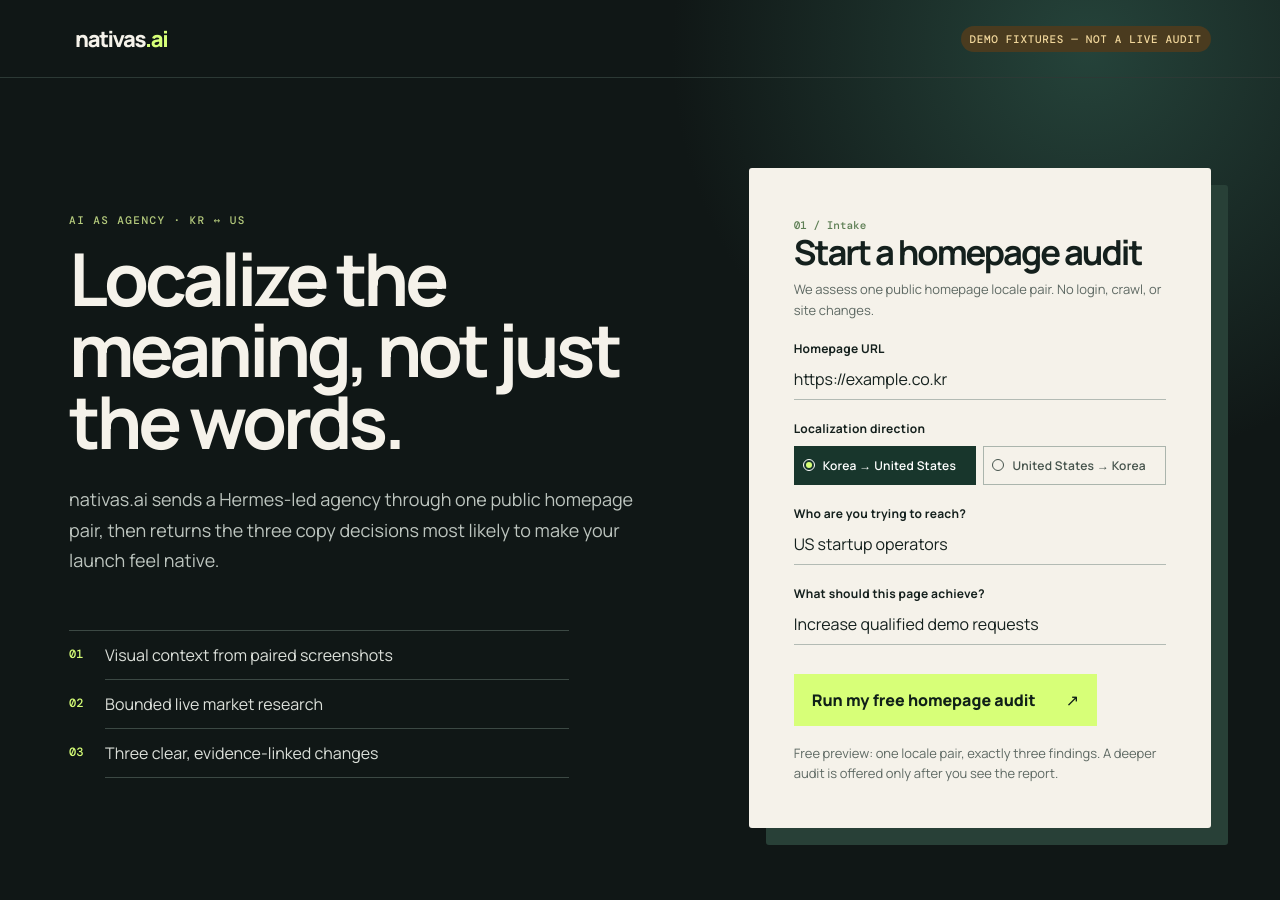
failures and degradation › shows the typed capture failure without inventing a report
Replace the text in the field labelled "Homepage URL" with "https://capture-fail.example.co.kr": coordinates (980, 378) [794,357,1166,400]
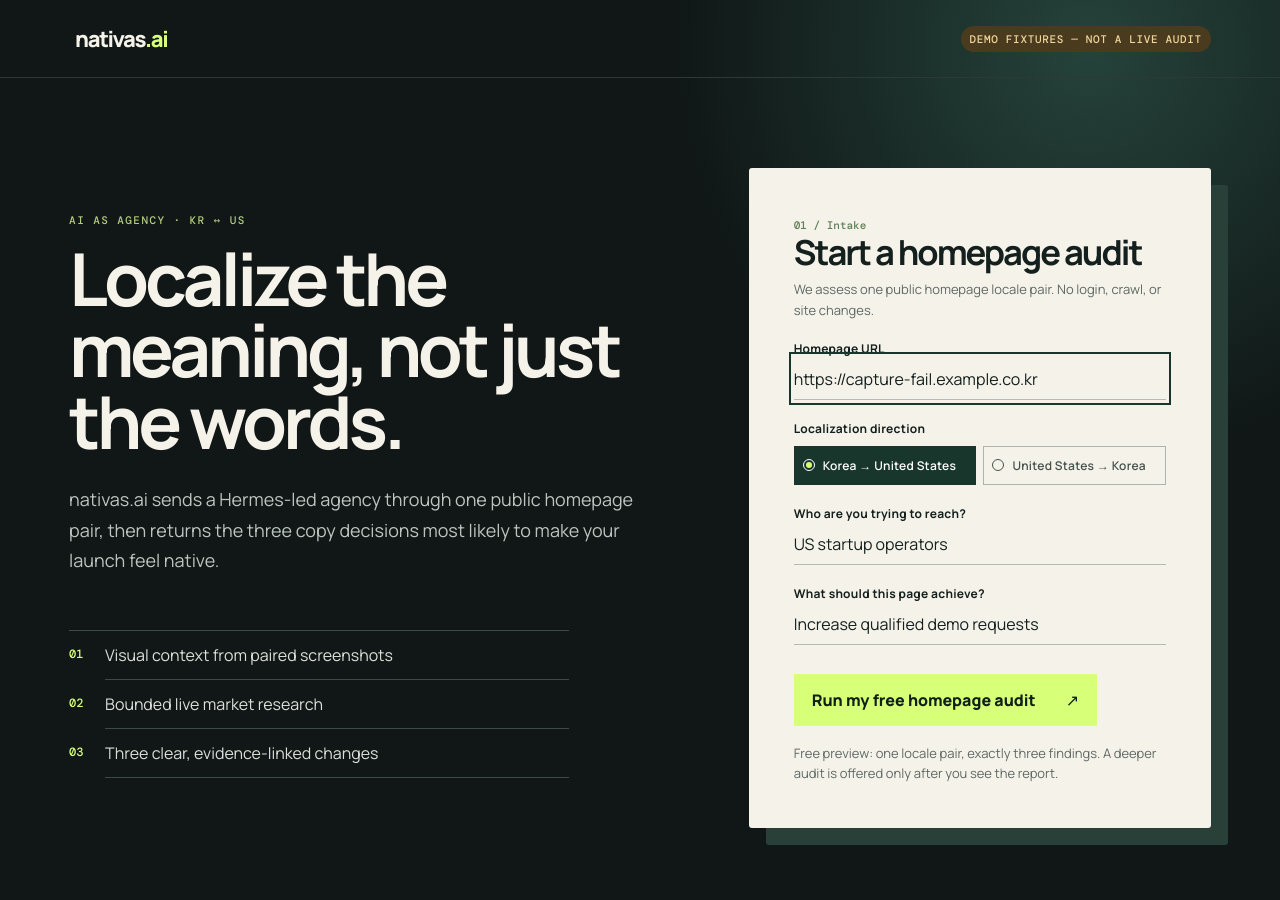
Click the button "Run my free homepage audit ↗": coordinates (945, 700) [794,674,1097,726]
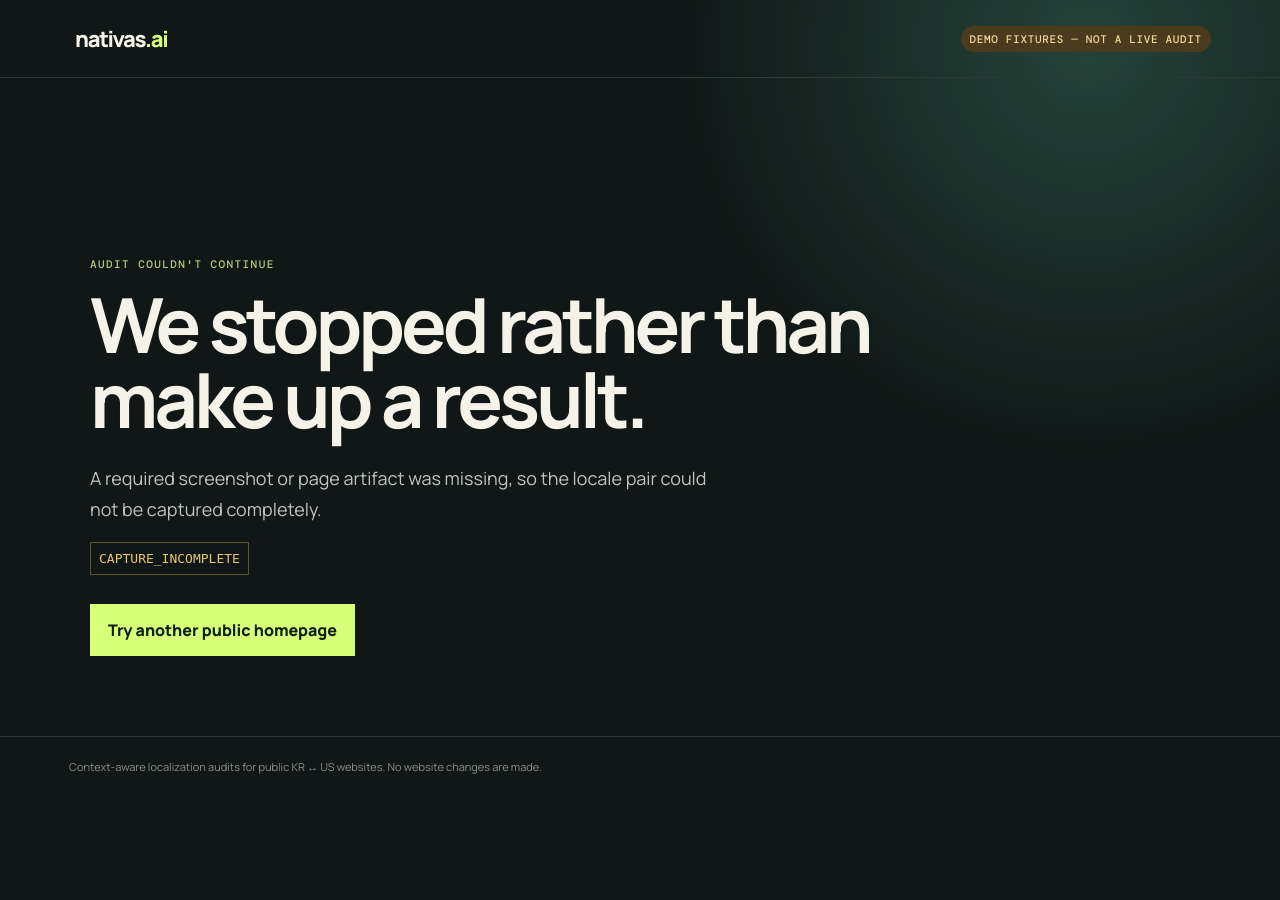
Expected: the heading "We stopped rather than make up a result." is shown, [90,287,880,436]
Expected: the text "CAPTURE_INCOMPLETE" is shown, [90,542,249,575]
